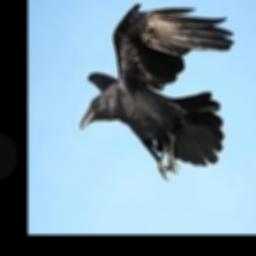Crow: (81, 2, 235, 181)
